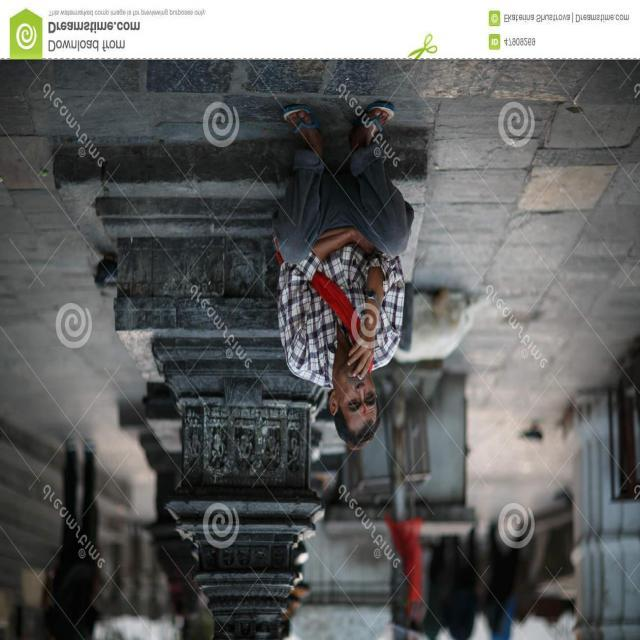cigarette: (353, 362, 369, 388)
